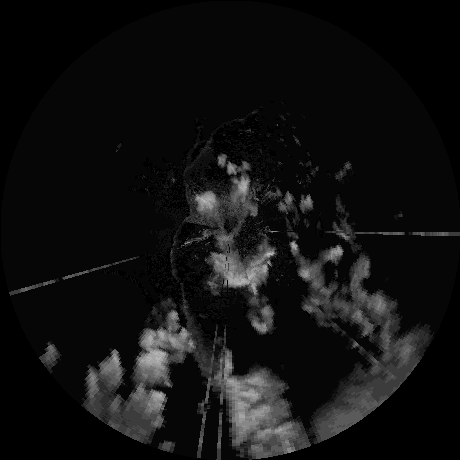frontgust: (168, 223, 202, 320), (180, 132, 215, 218)
